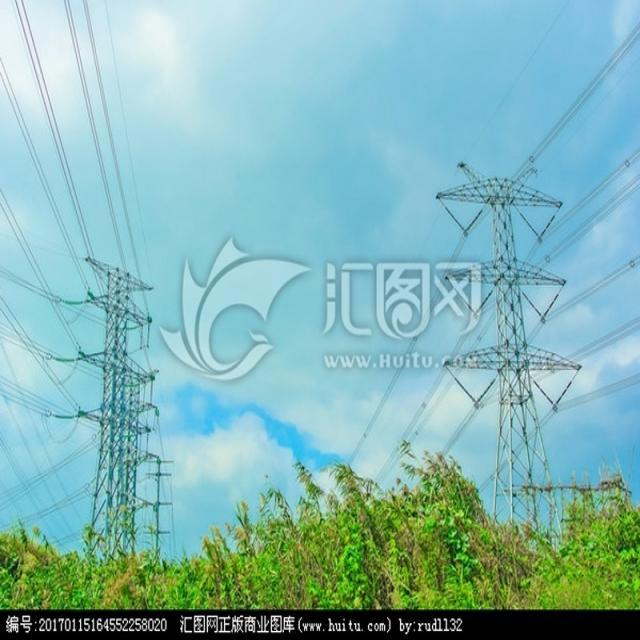non-critical vegetation: (446, 153, 584, 542), (82, 231, 164, 542)
